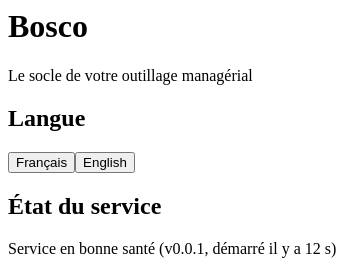
Test case: HomePage › switches the interface to English on demand, including the document language
Click the button "English" at [105, 162], box [75, 152, 135, 173]
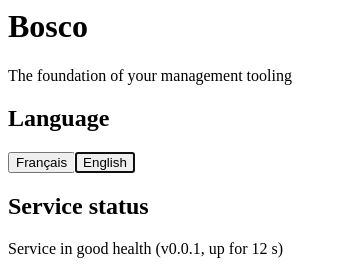
Now the text "The foundation of your management tooling" is shown, box [8, 67, 292, 84]
Now the text "socle de votre outillage" is gone
